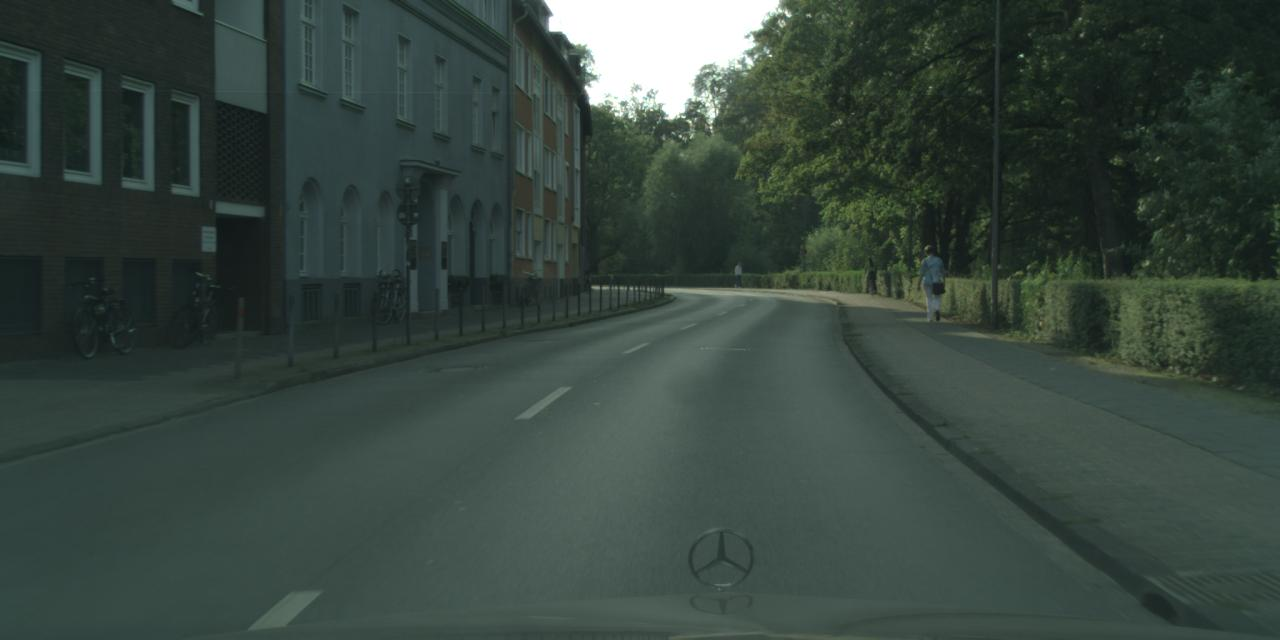ped: (916, 244, 946, 318), (862, 256, 877, 291), (732, 262, 742, 286)
